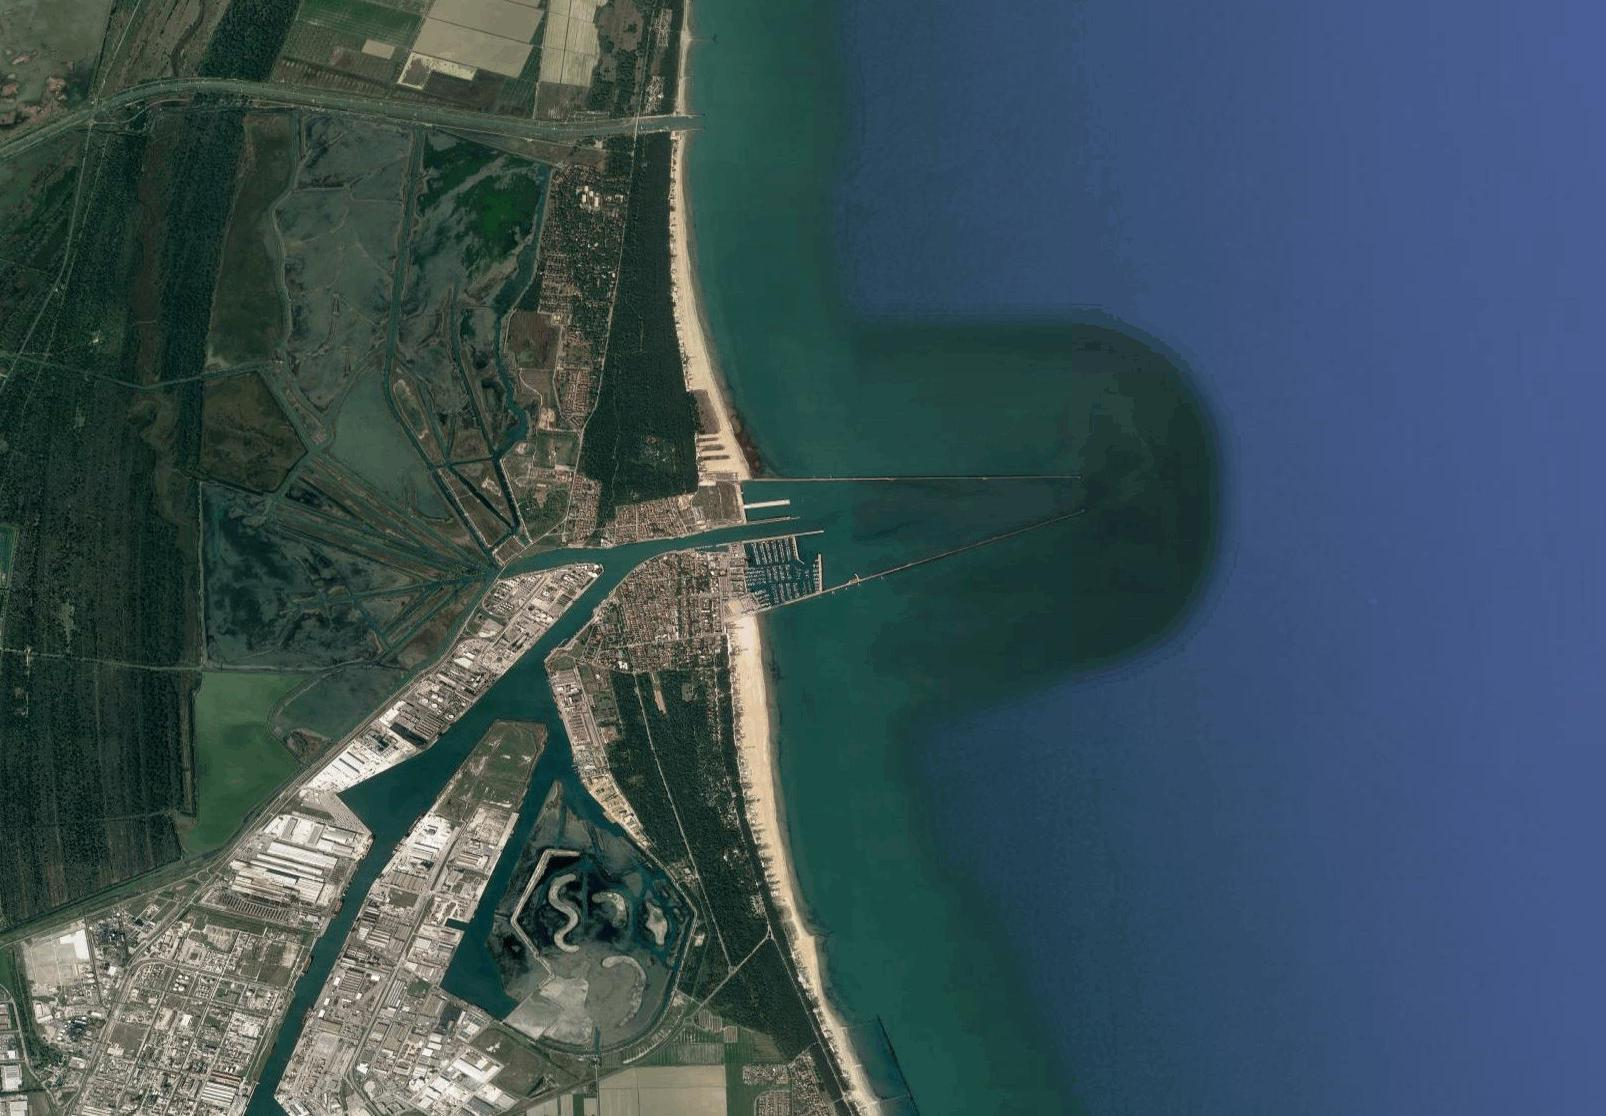harbor: (726, 526, 834, 621)
